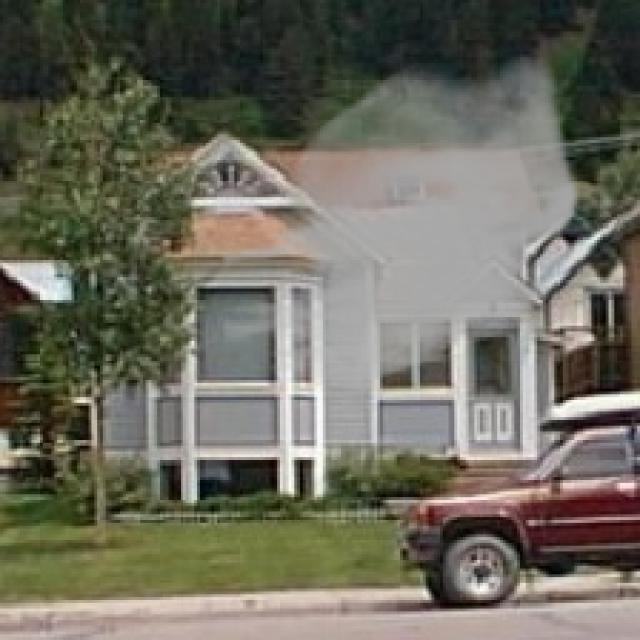Smoke: (220, 54, 580, 397)
